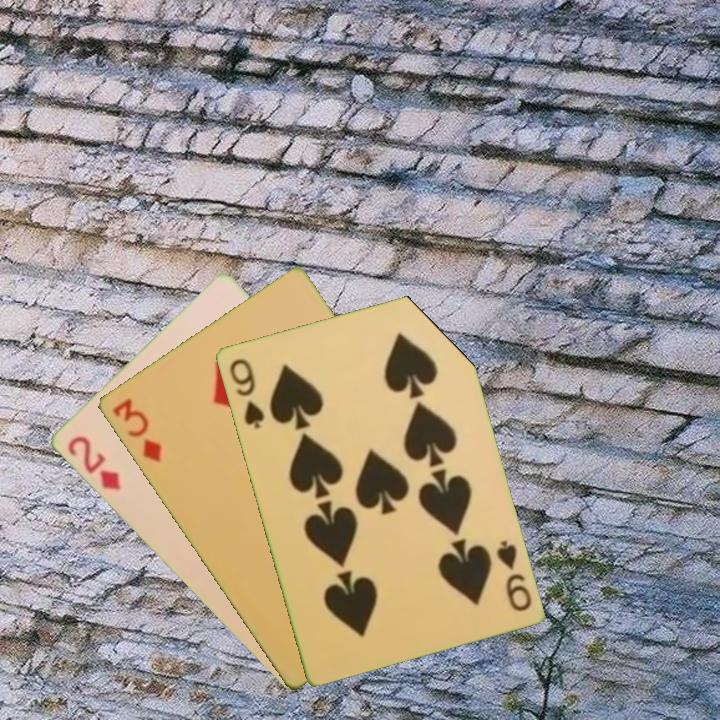2d: (63, 432, 123, 494)
3d: (108, 394, 164, 466)
9s: (225, 354, 267, 432), (492, 537, 534, 614)
